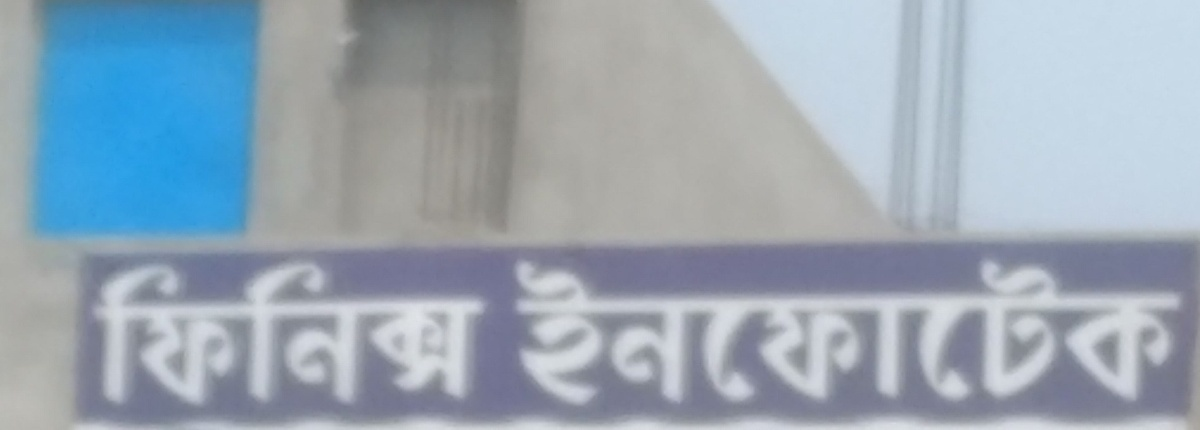text: (513, 250, 528, 413), (529, 250, 544, 413), (545, 250, 560, 413), (561, 250, 576, 413), (577, 250, 592, 413), (593, 250, 608, 413), (609, 250, 624, 413), (625, 250, 640, 413), (641, 250, 656, 413), (657, 250, 672, 413), (673, 250, 688, 413), (689, 250, 704, 413), (705, 250, 720, 413), (721, 250, 736, 413), (737, 250, 752, 413), (753, 250, 768, 413), (769, 250, 784, 413), (785, 250, 800, 413), (801, 250, 816, 413), (817, 250, 832, 413), (833, 250, 848, 413), (849, 250, 864, 413), (865, 250, 880, 413), (881, 250, 896, 413), (897, 250, 912, 413), (913, 250, 928, 413), (929, 250, 944, 413), (945, 250, 960, 413), (961, 250, 976, 413), (977, 250, 992, 413), (993, 250, 1008, 413), (1009, 250, 1024, 413), (1025, 250, 1040, 413), (1041, 250, 1056, 413), (1057, 250, 1072, 413), (1073, 250, 1088, 413), (1089, 250, 1104, 413), (1105, 250, 1120, 413), (1121, 250, 1136, 413), (1137, 250, 1152, 413), (1153, 250, 1168, 413), (1169, 250, 1184, 413), (97, 256, 112, 418), (113, 256, 128, 418), (129, 256, 144, 418), (145, 256, 160, 418), (161, 256, 176, 418), (177, 256, 192, 418), (193, 256, 208, 418), (209, 256, 224, 418), (225, 256, 240, 418), (241, 256, 256, 418), (257, 256, 272, 418), (273, 256, 288, 418), (289, 256, 304, 418), (305, 256, 320, 418), (321, 256, 336, 418), (337, 256, 352, 418), (353, 256, 368, 418), (369, 256, 384, 418), (385, 256, 400, 418), (401, 256, 416, 418), (417, 256, 432, 418), (433, 256, 448, 418), (449, 256, 464, 418), (465, 256, 480, 418), (481, 256, 493, 418), (88, 256, 96, 418), (1185, 250, 1191, 413), (507, 250, 512, 413)
